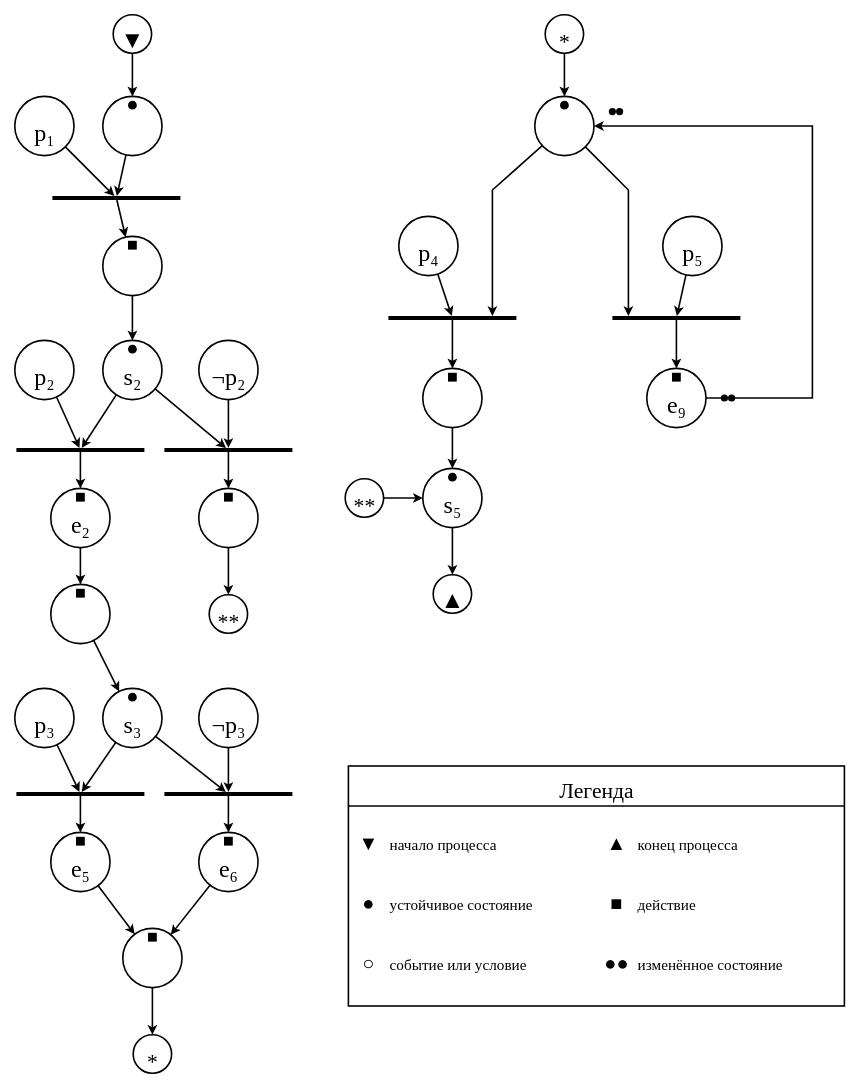
This 859x1087 diagram has some shape labels left out. Here are the shapes that lost their labels. From the top down, the centre of each, then its label:
point 132,125: s₁
point 564,125: s₄
point 132,265: e₁
point 452,397: e₈
point 228,517: e₃
point 80,613: e₄
point 152,957: e₇
